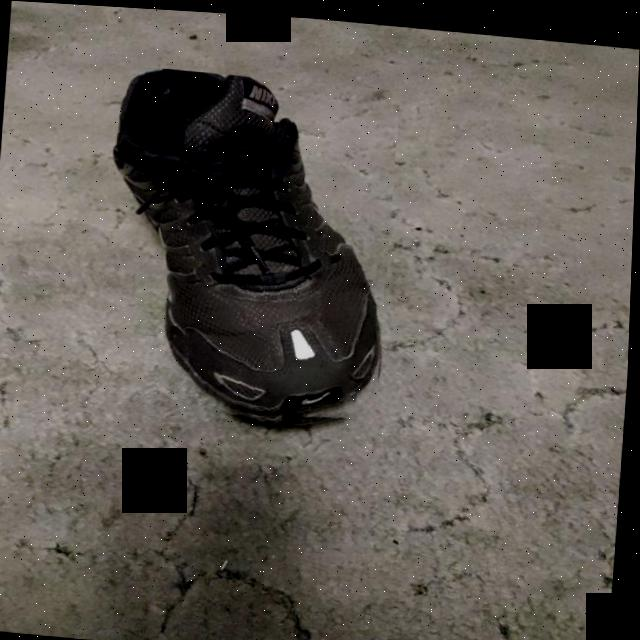shoe: (97, 62, 401, 431)
